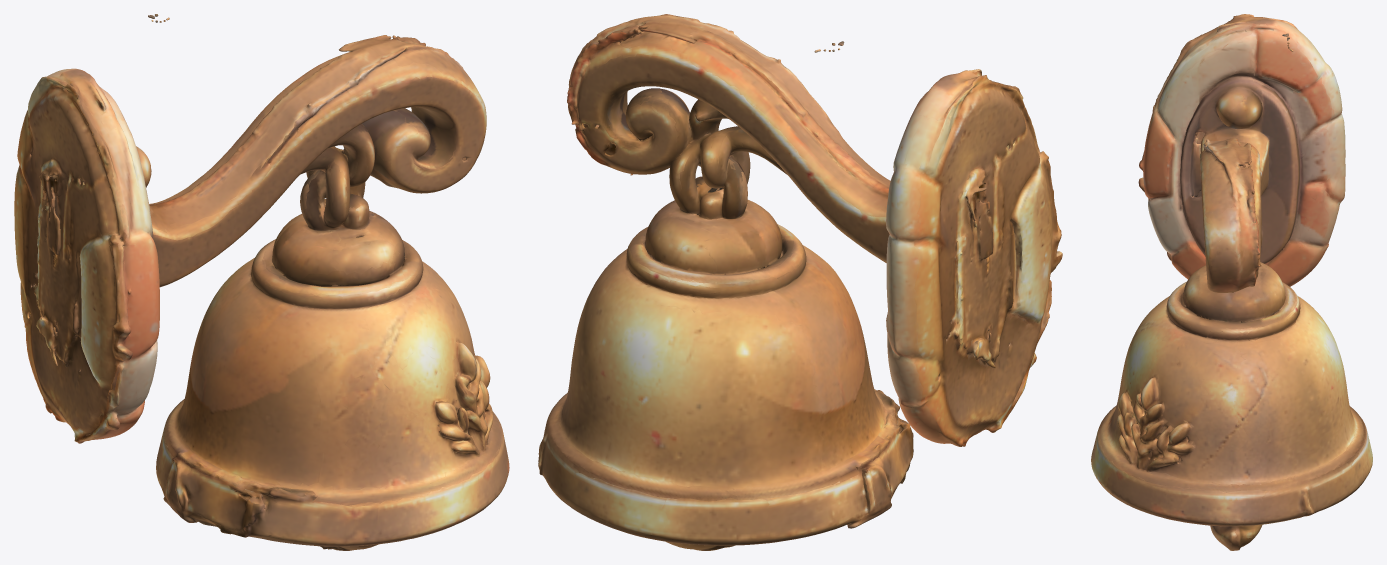
3 renders of one model, left to right at view 1: azimuth 30°, elevation 25°; view 2: azimuth 150°, elevation 25°; view 3: azimuth 270°, elevation 25°, orthographic. The views are drawn at different scales.
Visible parts, largest first — view 1: A5_body; view 2: A5_body; view 3: A5_body.
Part boxes in pixels (box(x1,y1,x2,y2)): A5_body: box(14, 14, 509, 550); A5_body: box(538, 14, 1062, 550); A5_body: box(1091, 14, 1372, 550).
Size of the model in its own units: 0.2432 by 0.2999 by 0.1741.
Materials: 1 (1 with a texture image).
